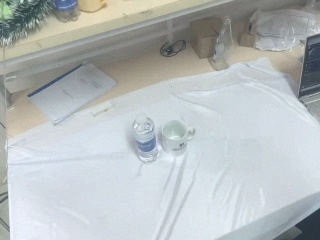bottle: (132, 113, 159, 164), (210, 17, 234, 71), (50, 1, 81, 23)
box: (188, 15, 225, 59)
cup: (161, 120, 195, 157)
